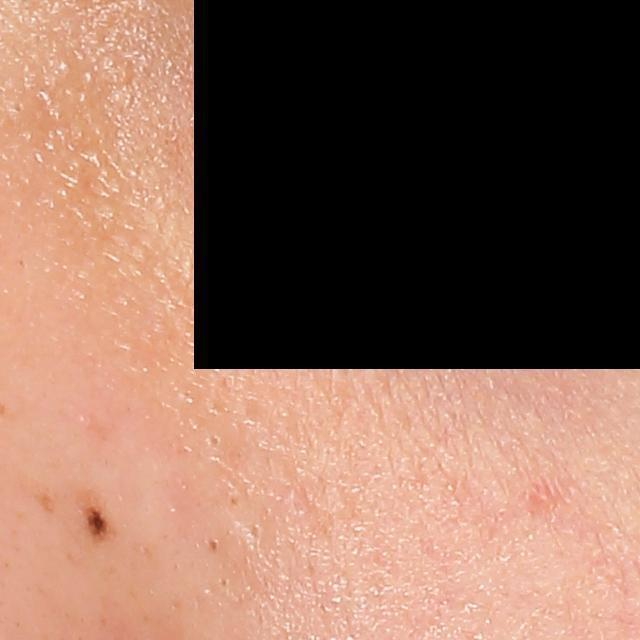comedo: (198, 426, 231, 457), (241, 516, 270, 548), (199, 532, 230, 561)
nevus: (73, 490, 115, 546)
